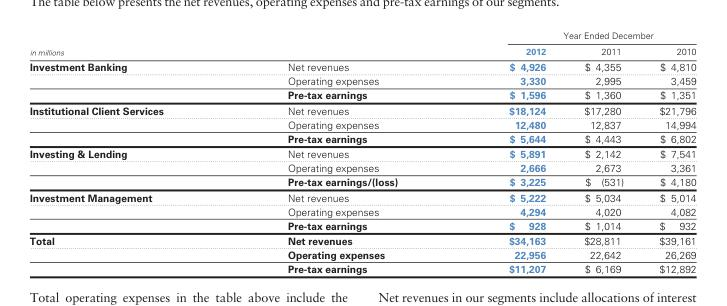table: (28, 29, 695, 274)
table column: (224, 29, 452, 274), (28, 29, 224, 274), (452, 29, 564, 274), (564, 29, 640, 274), (640, 29, 695, 274)
table column header: (28, 29, 695, 102)
table row: (28, 42, 695, 102), (28, 102, 695, 117), (28, 145, 695, 160), (28, 174, 695, 189), (28, 189, 695, 204), (28, 232, 695, 247), (28, 117, 695, 131), (28, 131, 695, 145), (28, 160, 695, 174), (28, 204, 695, 218), (28, 218, 695, 232), (28, 247, 695, 261), (28, 29, 695, 42), (28, 261, 695, 274)
table spanning cell: (224, 29, 452, 102), (28, 29, 224, 102), (28, 145, 224, 189), (28, 102, 224, 145), (28, 189, 224, 232), (28, 232, 224, 274), (452, 29, 695, 42)
